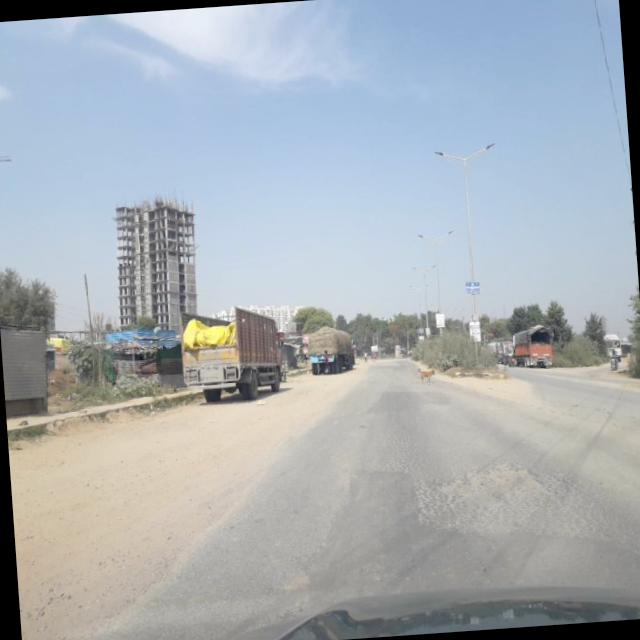crack: (408, 449, 608, 555)
pothole: (406, 448, 607, 554)
